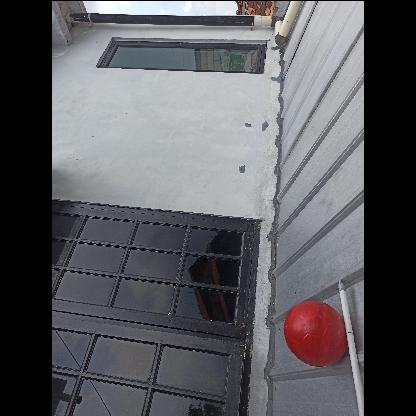red_ball: (284, 298, 350, 364)
